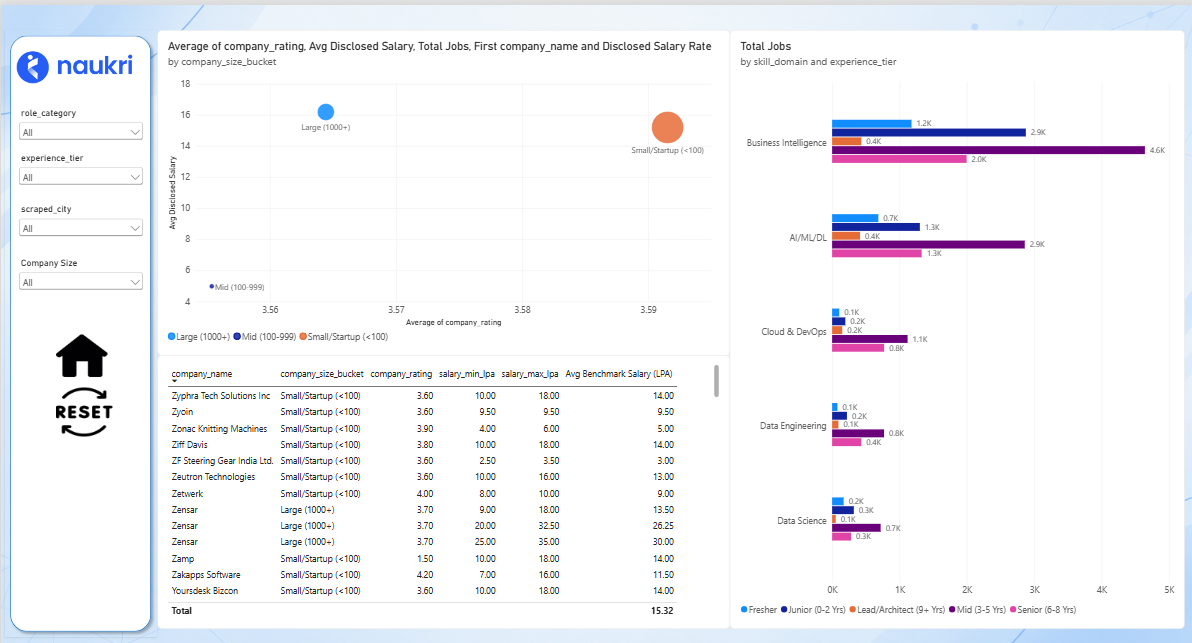

What the dashboard file says about the page in this screenshot:
{"tool":"powerbi","page":{"name":"Page 2","canvas":[1920,1080],"ordinal":1},"visuals":[{"type":"shape","box":[6.4,40,242.9,971.4],"z":0},{"type":"image","box":[6.4,74.3,224.3,51.4],"z":1000},{"type":"slicer","fields":{"Values":["indian_tech_jobs_2026.role_category"]},"box":[23.1,163.3,208.3,55],"z":2000},{"type":"slicer","fields":{"Values":["indian_tech_jobs_2026.experience_tier"]},"box":[23.1,235,208.3,55],"z":3000},{"type":"slicer","fields":{"Values":["indian_tech_jobs_2026.scraped_city"]},"box":[23.1,318.3,208.3,55],"z":4000},{"type":"tableEx","fields":{"Values":["indian_tech_jobs_2026.company_name","indian_tech_jobs_2026.company_size_bucket","indian_tech_jobs_2026.company_rating","indian_tech_jobs_2026.salary_min_lpa","indian_tech_jobs_2026.salary_max_lpa","measure.Avg Benchmark Salary (LPA)"]},"box":[249.7,560,916.7,438.3],"z":5000},{"type":"scatterChart","fields":{"Series":["indian_tech_jobs_2026.company_size_bucket"],"Size":["measure.Total Jobs"],"X":["Avg(indian_tech_jobs_2026.company_rating)"],"Y":["state_name.Avg Disclosed Salary"]},"box":[249.7,40,916.7,521.7],"z":6000},{"type":"slicer","fields":{"Values":["indian_tech_jobs_2026.company_size_bucket"]},"box":[23.1,403.3,208.3,55],"z":7000},{"type":"clusteredBarChart","fields":{"Category":["indian_tech_jobs_2026.skill_domain"],"Series":["indian_tech_jobs_2026.experience_tier"],"Y":["measure.Total Jobs"]},"box":[1166,40,728,958],"z":8000},{"type":"actionButton","box":[88,526,82,70],"z":9000},{"type":"actionButton","box":[88,612,90,78],"z":10000}]}

Visuals, with their boxes on the page's 1920x1080 design canvas (x1, y1, x2, y2). These are canvas units, not pixel positions in the 1192x643 screenshot, which may show the page scaled, cropped or inside an application window:
shape: (left=6, top=40, right=249, bottom=1011)
image: (left=6, top=74, right=231, bottom=126)
slicer - indian_tech_jobs_2026.role_category: (left=23, top=163, right=231, bottom=218)
slicer - indian_tech_jobs_2026.experience_tier: (left=23, top=235, right=231, bottom=290)
slicer - indian_tech_jobs_2026.scraped_city: (left=23, top=318, right=231, bottom=373)
tableEx - indian_tech_jobs_2026.company_name x indian_tech_jobs_2026.company_size_bucket: (left=250, top=560, right=1166, bottom=998)
scatterChart - indian_tech_jobs_2026.company_size_bucket x measure.Total Jobs: (left=250, top=40, right=1166, bottom=562)
slicer - indian_tech_jobs_2026.company_size_bucket: (left=23, top=403, right=231, bottom=458)
clusteredBarChart - indian_tech_jobs_2026.skill_domain x indian_tech_jobs_2026.experience_tier: (left=1166, top=40, right=1894, bottom=998)
actionButton: (left=88, top=526, right=170, bottom=596)
actionButton: (left=88, top=612, right=178, bottom=690)
